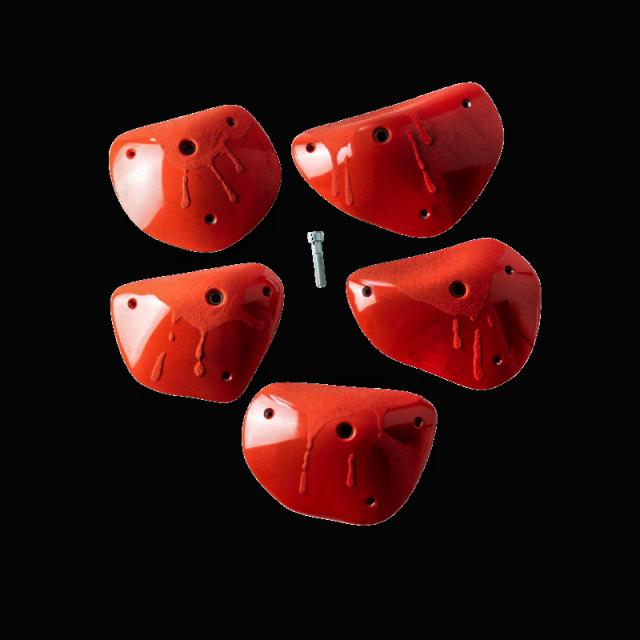Hold: (300, 82, 518, 240), (349, 242, 554, 388), (104, 98, 291, 258), (240, 386, 445, 529), (107, 262, 286, 401)
